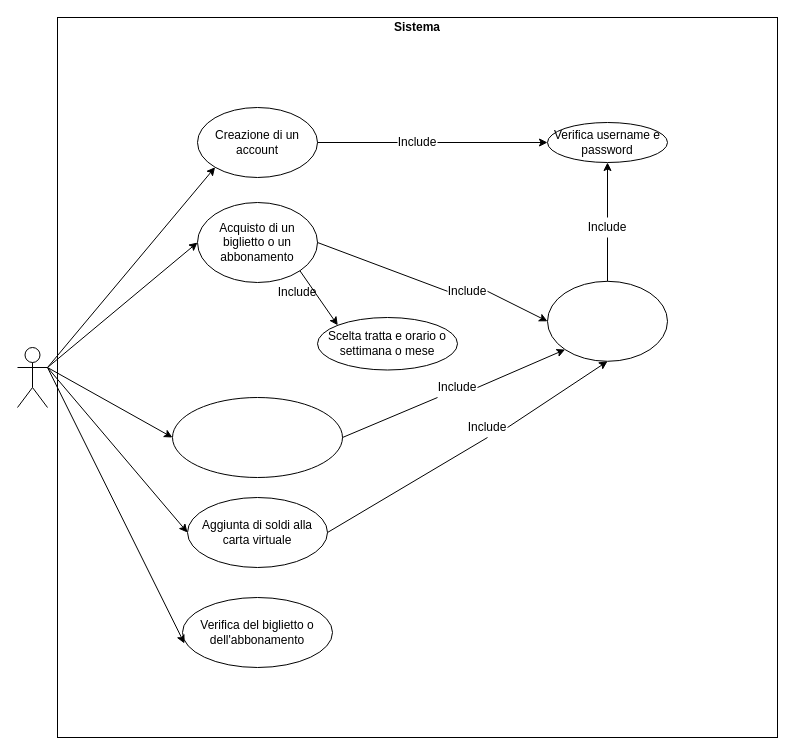
This 795x755 diagram has some shape labels left out. Here are the shapes that lost their labels. From the top down, the centre of each, then its label:
point 607,320: Accesso all'account
point 32,377: Actor
point 257,437: Visualizzazione del biglietto o dell'abbonamento corrente
